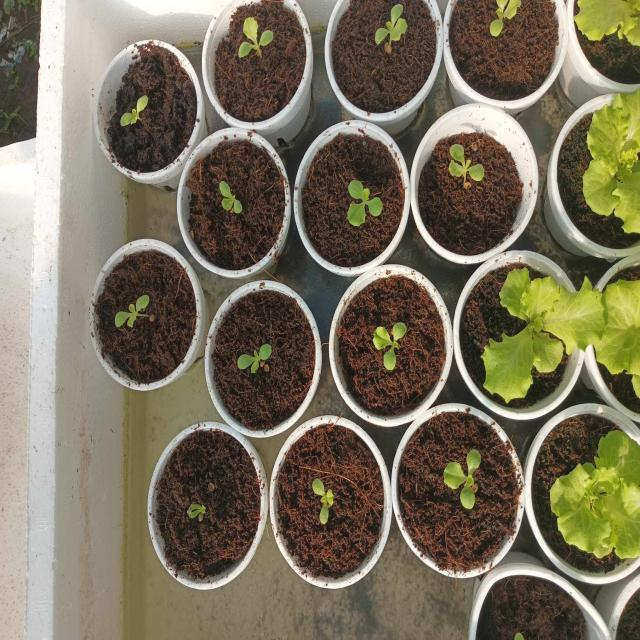Lettuce-Not-Ready-to-Harvest: (483, 268, 605, 404), (549, 430, 640, 560), (443, 449, 482, 510), (346, 181, 383, 227), (373, 323, 407, 371), (374, 4, 407, 53), (238, 17, 274, 58), (448, 144, 485, 182), (489, 0, 521, 38), (114, 297, 150, 329), (311, 479, 334, 526), (237, 344, 272, 374), (121, 96, 149, 126), (218, 181, 242, 214), (187, 503, 207, 522)
Lettuce-Ready-to-Harvest: (582, 89, 640, 236)
